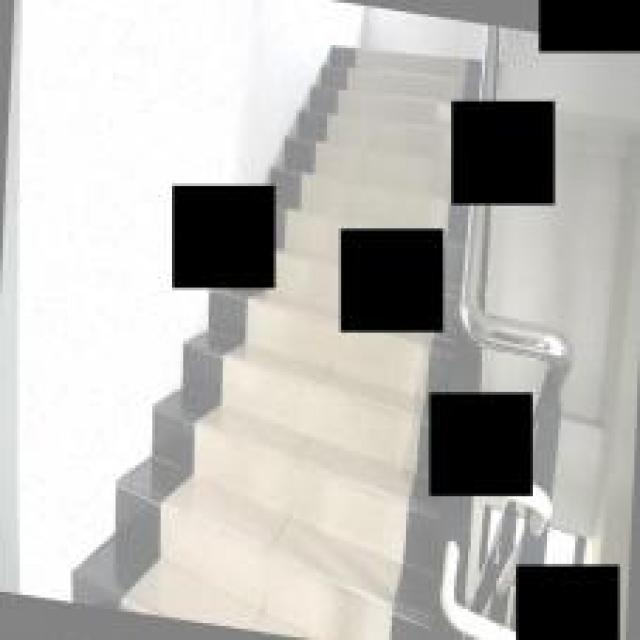upstair: (191, 349, 417, 640)
